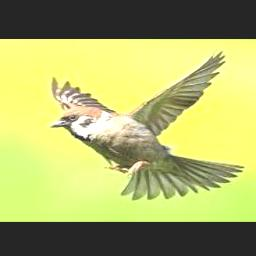Sparrow: (50, 48, 245, 200)
